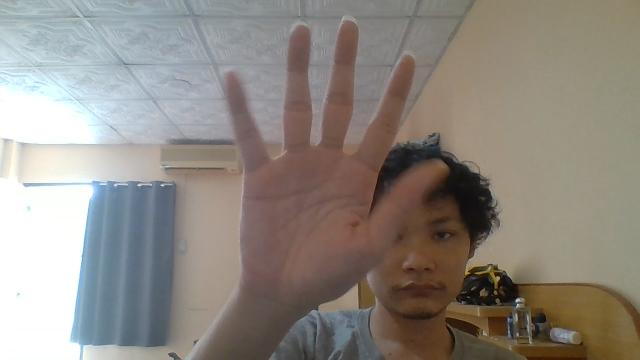Stop: (220, 15, 416, 310)
